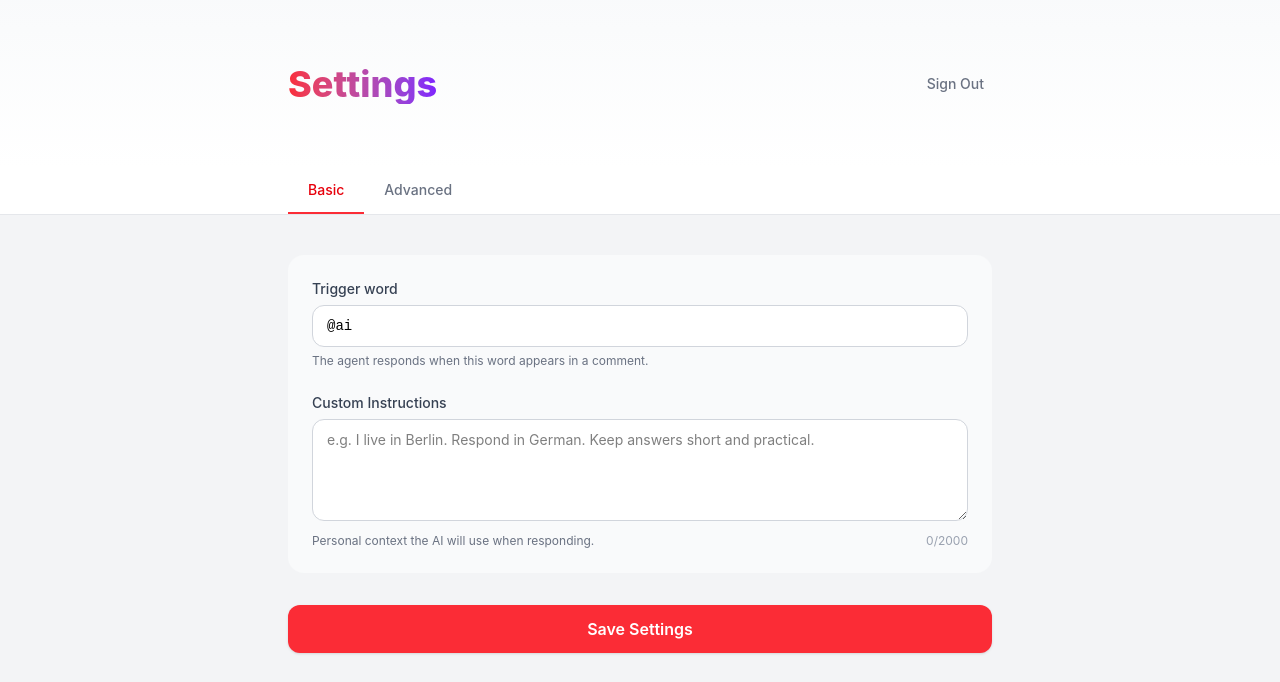
Settings: save › shows rate limit message on 429 during save
Expected: the heading "Settings" is shown, [288,64,437,104]
Click the button "Save Settings": coordinates (640, 629) [288,605,992,653]
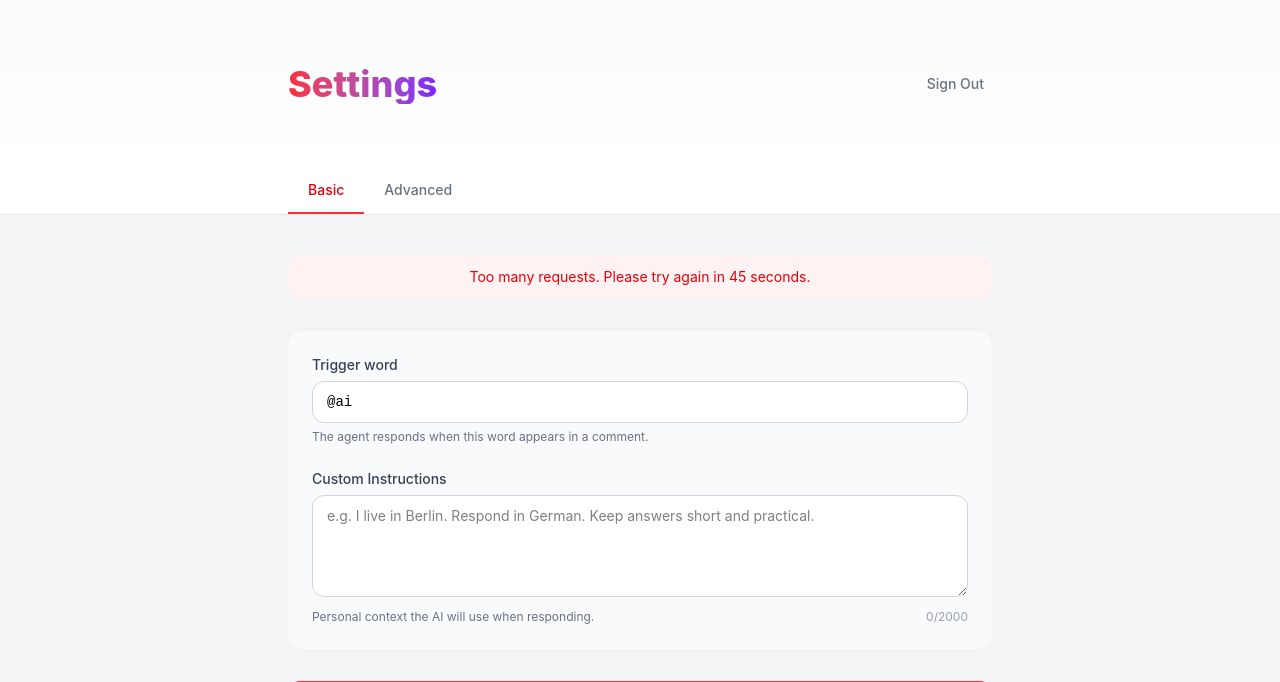
Expected: the text "Too many requests. Please try again in 45 seconds." is shown, [288,255,992,299]
